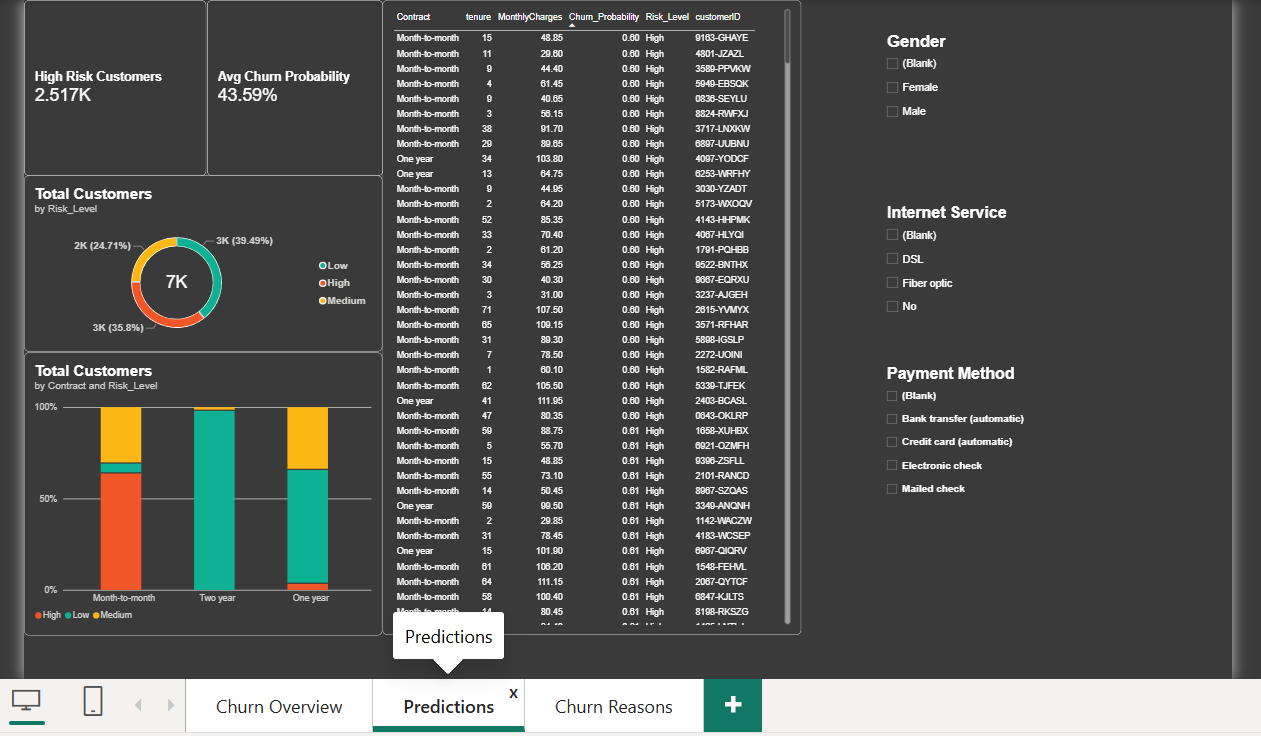

What the dashboard file says about the page in this screenshot:
{"tool":"powerbi","page":{"name":"Predictions","canvas":[1920,1080],"ordinal":1},"visuals":[{"type":"cardVisual","fields":{"Data":["predictions.High Risk Customers"]},"box":[0,0,290,280],"z":0},{"type":"cardVisual","fields":{"Data":["predictions.Avg Churn Probability"]},"box":[290,0,280,280],"z":1000},{"type":"donutChart","fields":{"Category":["predictions.Risk_Level"],"Y":["Telco.Total Customers"]},"box":[0,280,570,280],"z":2000},{"type":"hundredPercentStackedColumnChart","fields":{"Category":["Telco.Contract"],"Series":["predictions.Risk_Level"],"Y":["Telco.Total Customers"]},"box":[0,560,570,450],"z":3000},{"type":"tableEx","fields":{"Values":["Telco.Contract","Telco.tenure","Telco.MonthlyCharges","predictions.Churn_Probability","predictions.Risk_Level","Telco.customerID"]},"box":[570,0,666,1010],"z":4000},{"type":"slicer","fields":{"Values":["Telco.gender"]},"box":[1365,50,540,262.5],"z":5000},{"type":"slicer","fields":{"Values":["Telco.InternetService"]},"box":[1365,325,540,215],"z":6000},{"type":"slicer","fields":{"Values":["Telco.PaymentMethod"]},"box":[1365,580,540,320],"z":7000}]}

Visuals, with their boxes on the page's 1920x1080 design canvas (x1, y1, x2, y2). These are canvas units, not pixel positions in the 1261x736 screenshot, which may show the page scaled, cropped or inside an application window:
cardVisual - predictions.High Risk Customers: crop(0, 0, 290, 280)
cardVisual - predictions.Avg Churn Probability: crop(290, 0, 570, 280)
donutChart - predictions.Risk_Level x Telco.Total Customers: crop(0, 280, 570, 560)
hundredPercentStackedColumnChart - Telco.Contract x predictions.Risk_Level: crop(0, 560, 570, 1010)
tableEx - Telco.Contract x Telco.tenure: crop(570, 0, 1236, 1010)
slicer - Telco.gender: crop(1365, 50, 1905, 312)
slicer - Telco.InternetService: crop(1365, 325, 1905, 540)
slicer - Telco.PaymentMethod: crop(1365, 580, 1905, 900)
